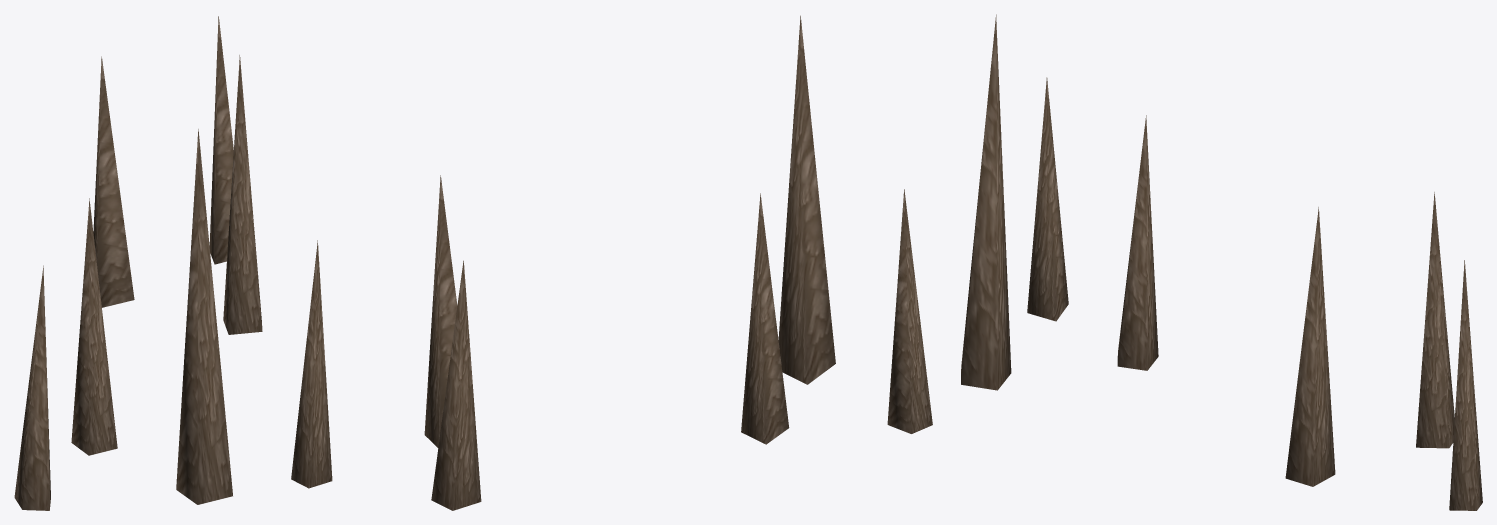
Rendered from area_07_24.fbx.
3 renders of one model, left to right at view 1: azimuth 30°, elevation 25°; view 2: azimuth 150°, elevation 25°; view 3: azimuth 270°, elevation 25°, orthographic.
Parts seen in each view (by area): view 1: area_07_24; view 2: area_07_24; view 3: area_07_24.
Boxes of the visible parts, x1=… form: area_07_24: x1=14, y1=16, x2=262, y2=510; area_07_24: x1=291, y1=15, x2=932, y2=510; area_07_24: x1=961, y1=14, x2=1482, y2=510.
Size of the model in its own units: 11.27 by 9.16 by 11.82.
